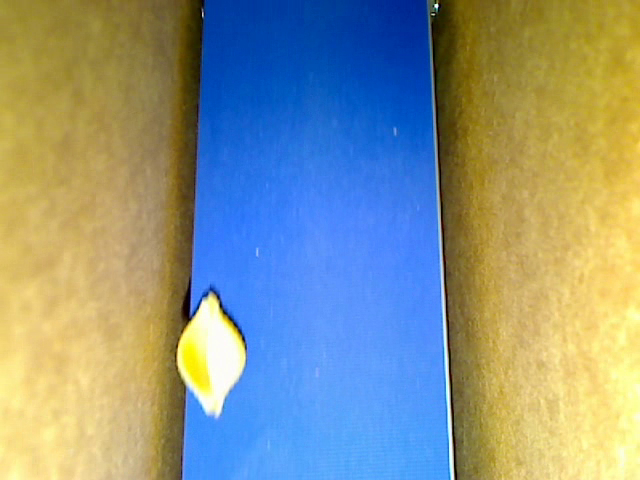shell: (177, 291, 245, 417)
